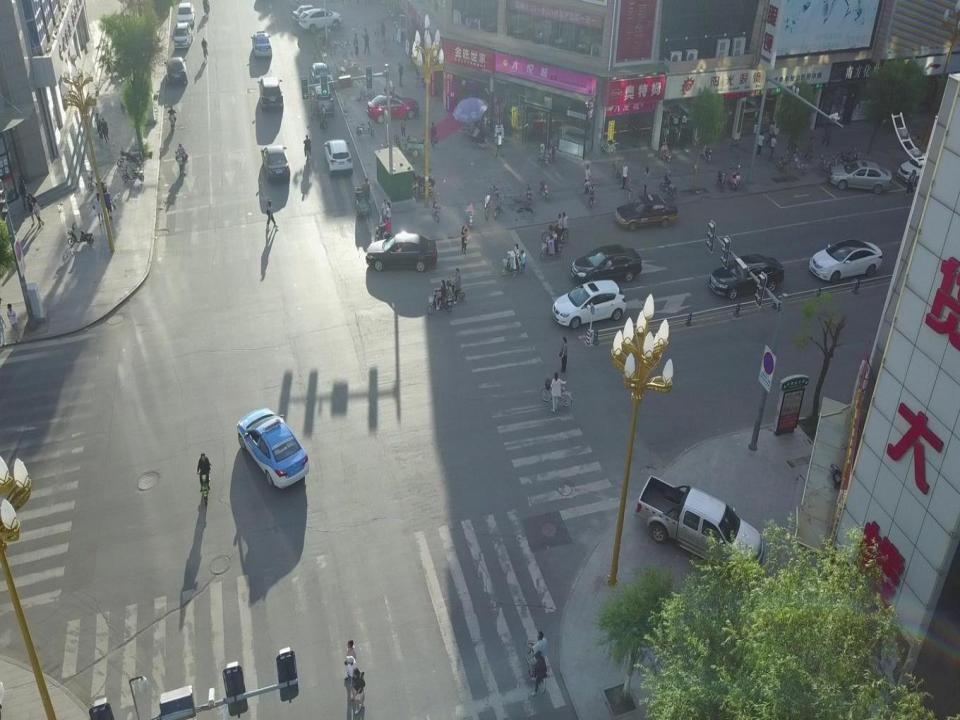car: (237, 410, 309, 488), (711, 252, 783, 296), (552, 284, 625, 324), (367, 232, 437, 272), (810, 240, 881, 279), (571, 244, 641, 283), (615, 193, 677, 227), (831, 158, 891, 191), (367, 94, 420, 122), (260, 146, 290, 182), (324, 139, 353, 175), (257, 76, 284, 110), (300, 10, 342, 30), (310, 86, 334, 114), (309, 60, 332, 88), (172, 22, 193, 49), (165, 58, 187, 83), (252, 31, 271, 56), (292, 4, 320, 20), (177, 3, 194, 24)
van: (635, 475, 763, 575)
